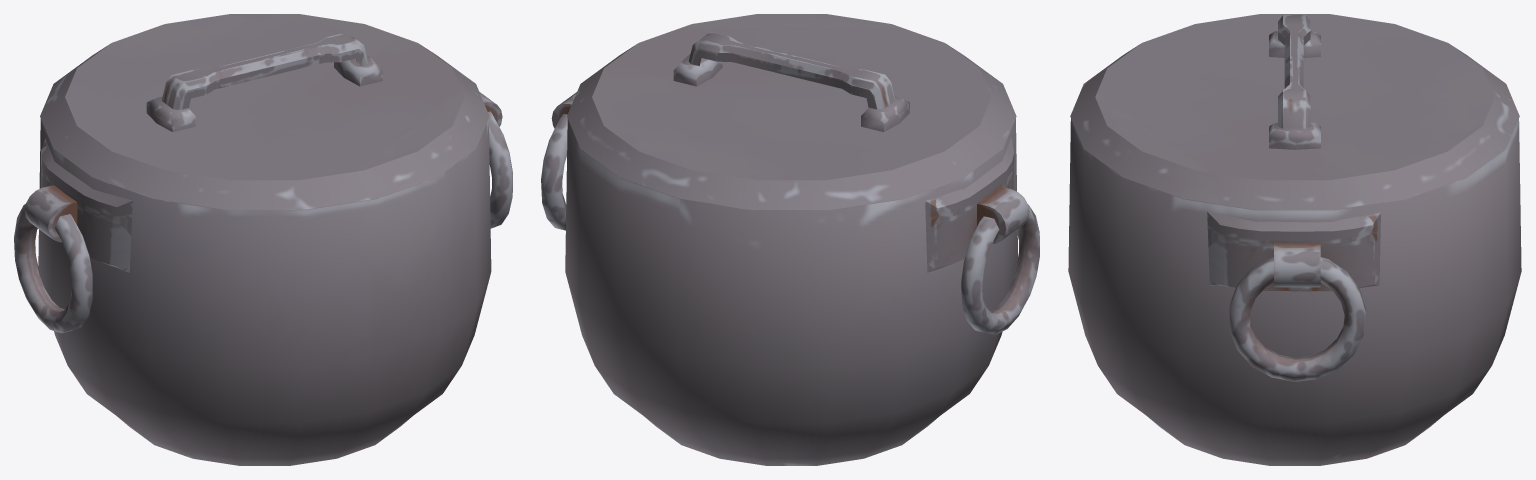
Rendered from Pot_2_Lid.fbx.
3 renders of one model, left to right at view 1: azimuth 30°, elevation 25°; view 2: azimuth 150°, elevation 25°; view 3: azimuth 270°, elevation 25°, orthographic.
Visible parts, largest first — view 1: Pot_2_Lid; view 2: Pot_2_Lid; view 3: Pot_2_Lid.
Part boxes in pixels (bbox=[...]): Pot_2_Lid: bbox=[14, 14, 512, 465]; Pot_2_Lid: bbox=[541, 14, 1039, 465]; Pot_2_Lid: bbox=[1068, 14, 1521, 465].
Size of the model in its own units: 56.05 by 41.05 by 48.39.
